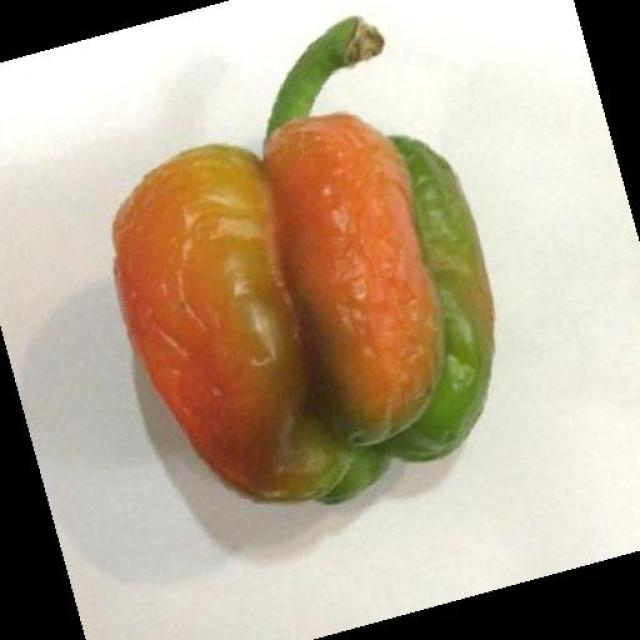Stale_Capsicum: (115, 134, 468, 482)
